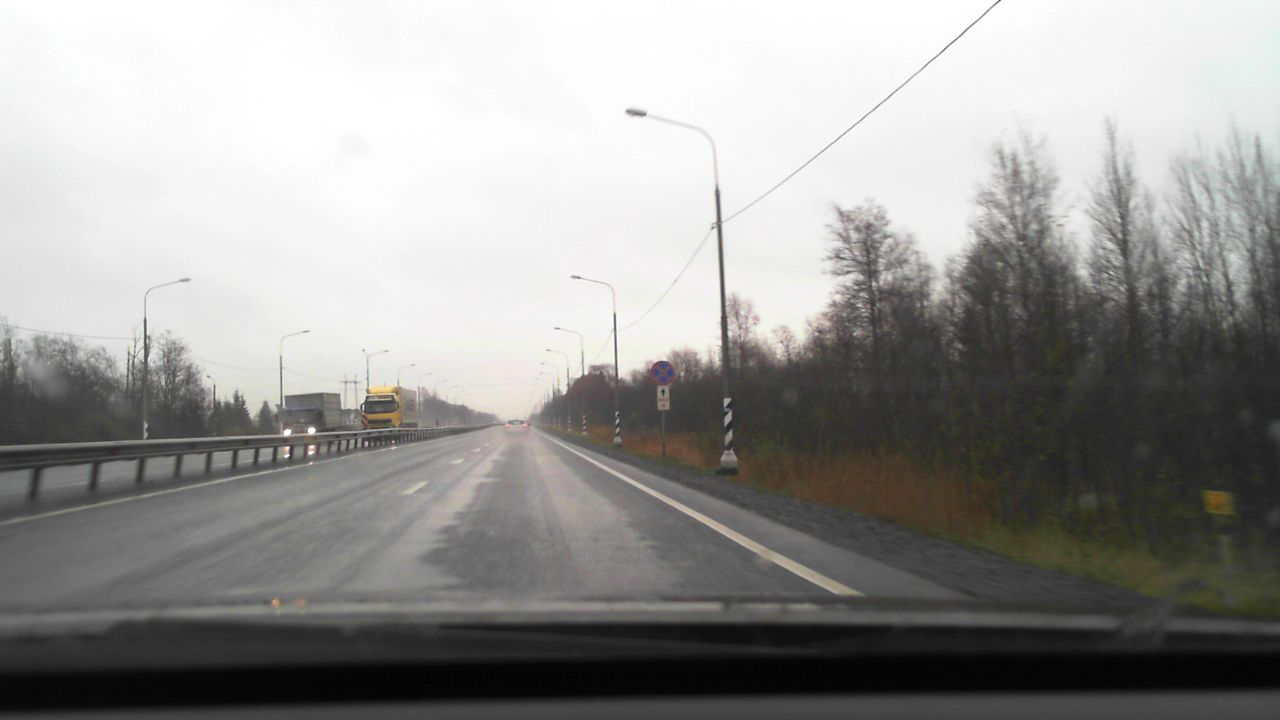No Parking: (650, 361, 674, 384)
